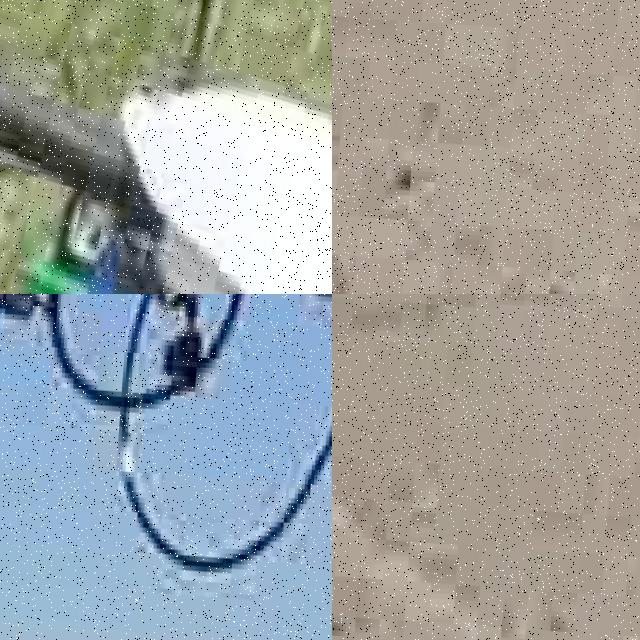drone: (0, 0, 332, 294)
